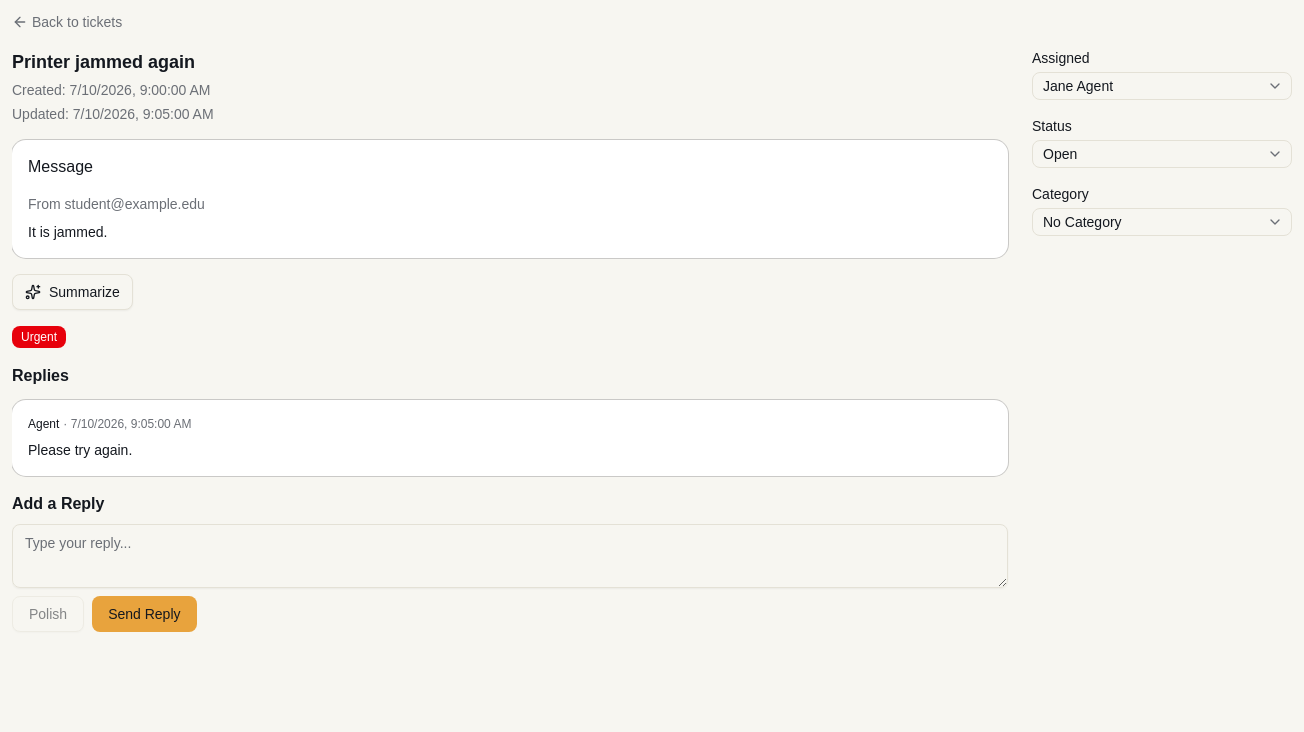
Scenario: TicketDetailPage › unassigns the ticket when Unassigned is selected
Click the dropdown named "assigned agent" at (1078, 86), box top-left (1032, 72), bottom-right (1292, 100)
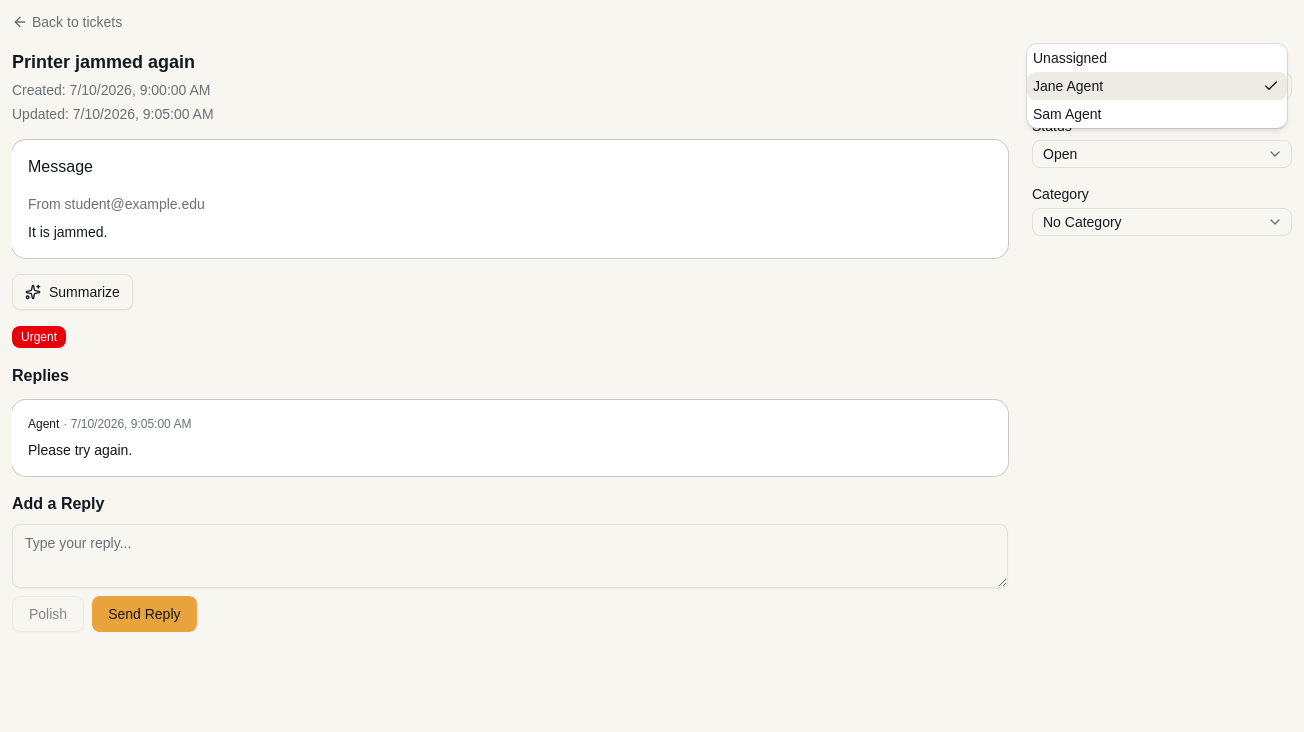
Click the option "Unassigned" at (1070, 58), box top-left (1033, 50), bottom-right (1107, 66)
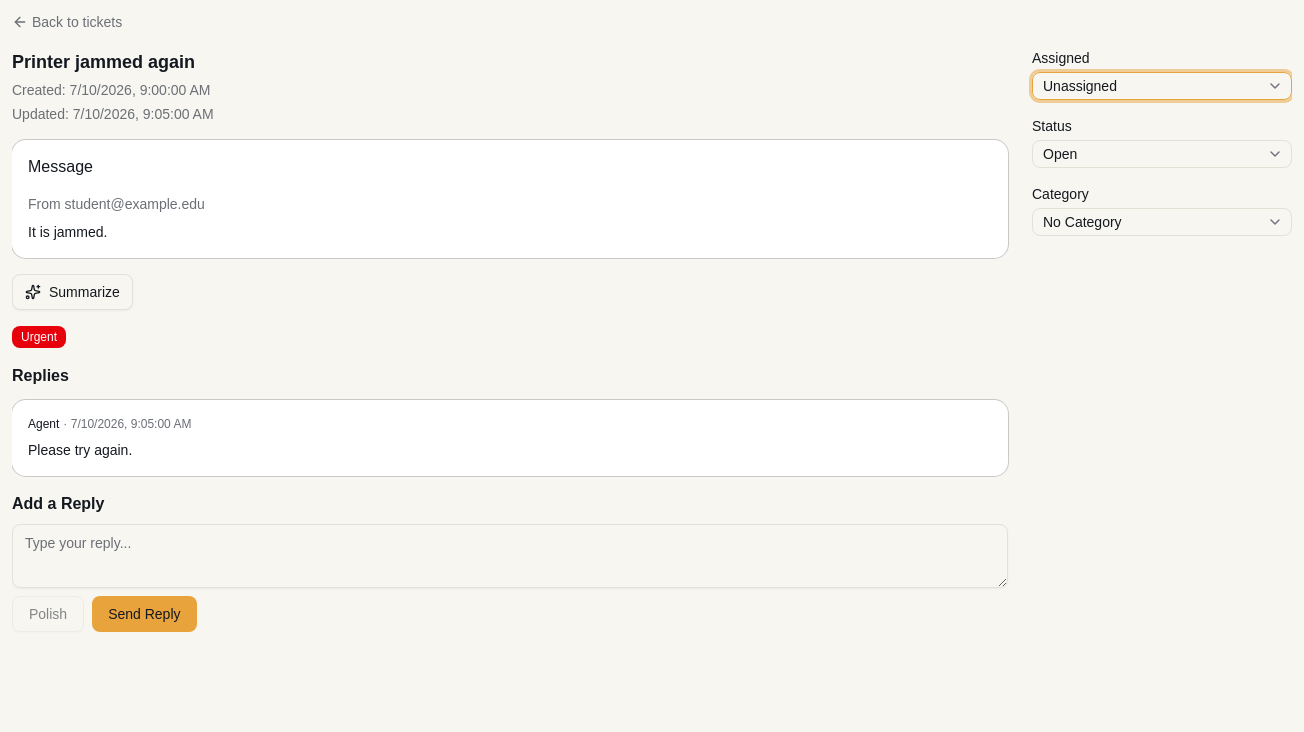
Expected: the dropdown named "assigned agent" shows "Unassigned", top-left (1032, 72), bottom-right (1292, 100)
